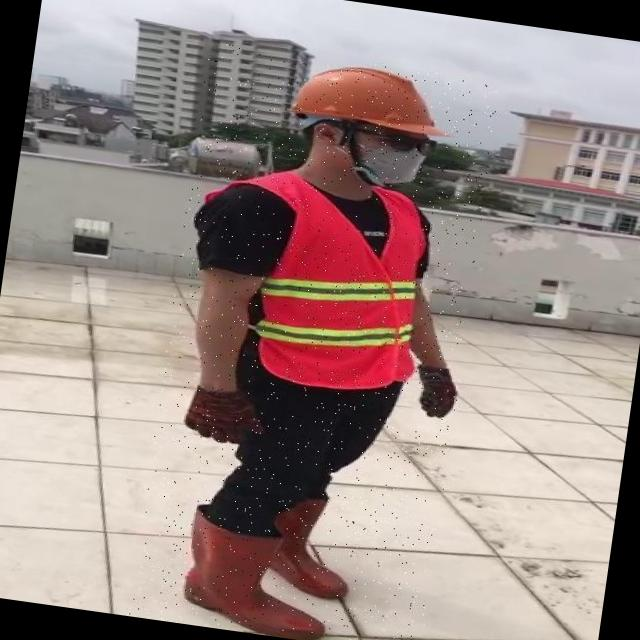hard_hat: (282, 54, 449, 140)
safety_vest: (240, 173, 438, 400)
vehicle: (128, 41, 501, 640)
work_boots: (178, 505, 339, 640), (264, 496, 358, 601)
